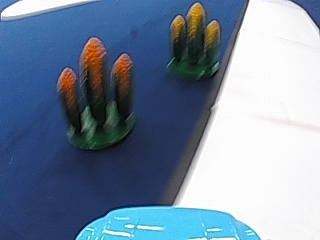corn: (57, 39, 136, 154), (165, 2, 220, 87)
